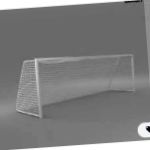goals: (15, 50, 138, 118)
